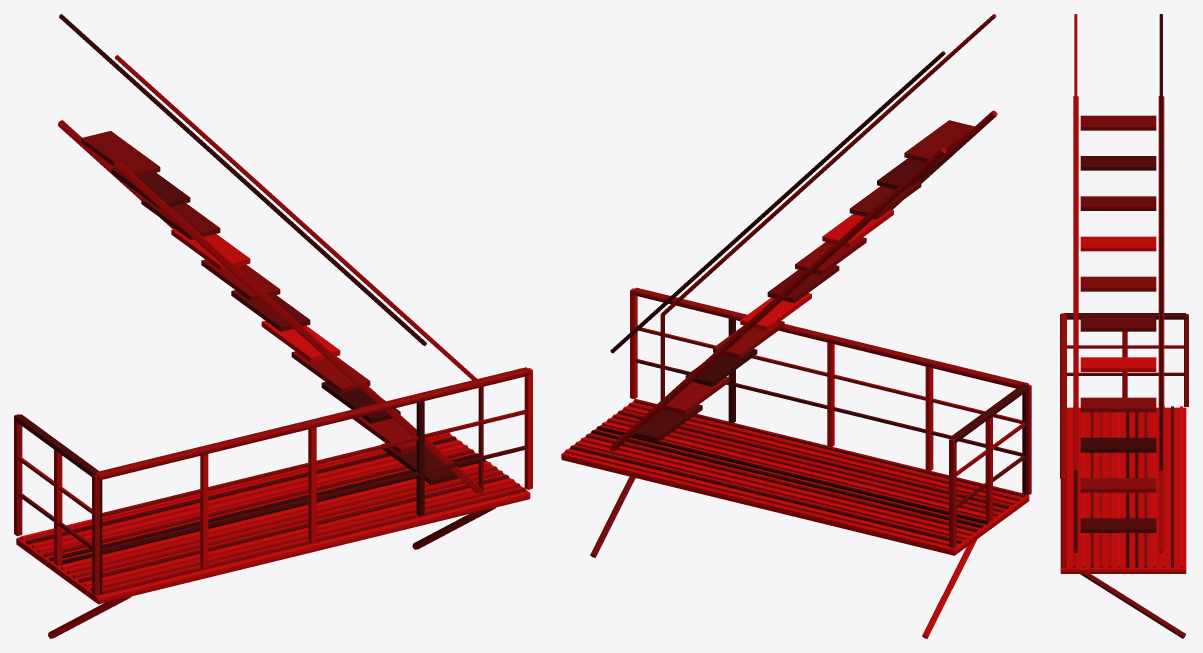
File: fire_escape.glb
The picture shows the model from 3 angles, left to right: view 1: azimuth 30°, elevation 25°; view 2: azimuth 150°, elevation 25°; view 3: azimuth 270°, elevation 25°; orthographic projection. The views are drawn at different scales.
Visible parts, largest first — view 1: fire_escape; view 2: fire_escape; view 3: fire_escape.
Boxes of the visible parts, <box> form: fire_escape: <box>14,14,532,638</box>; fire_escape: <box>561,14,1031,638</box>; fire_escape: <box>1060,14,1188,638</box>.
Size of the model in its own units: 3.85 by 5.33 by 1.28.
